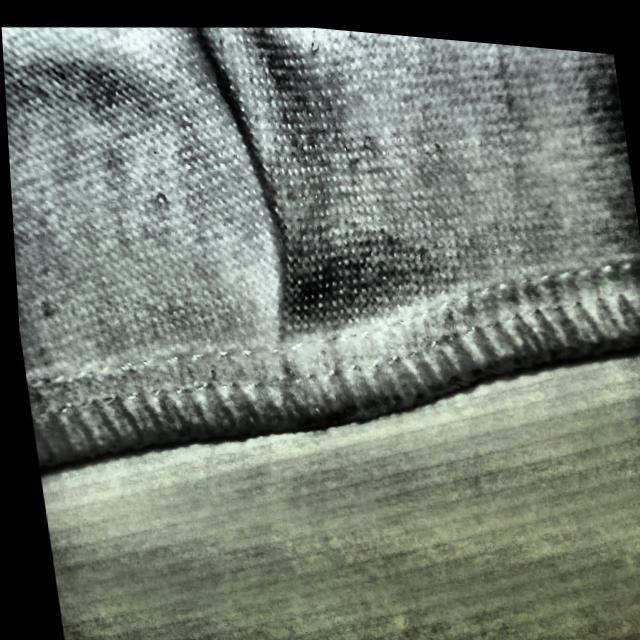seam: (194, 106, 383, 437)
